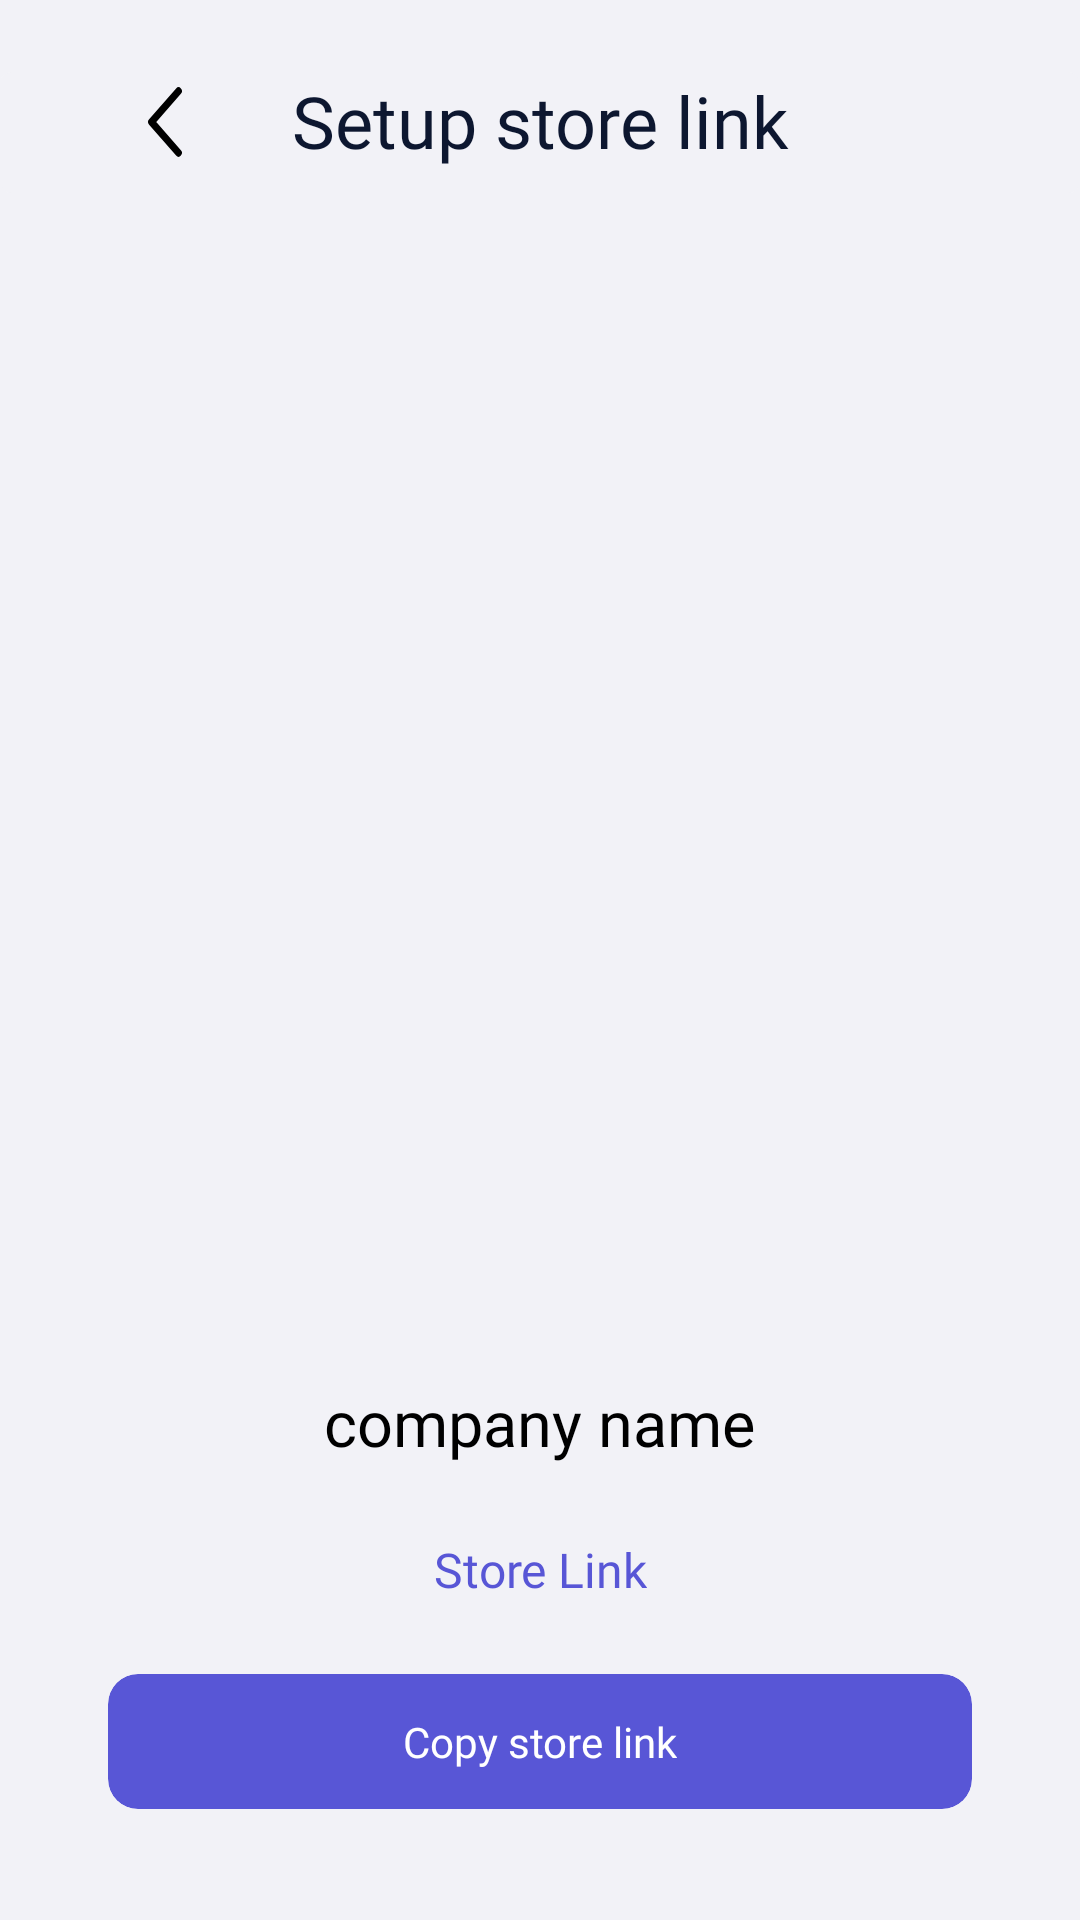

Point at icon controls on the screen. Image size 1080px x 1920px, points as (x,y).
left click arrow: (165,122)
